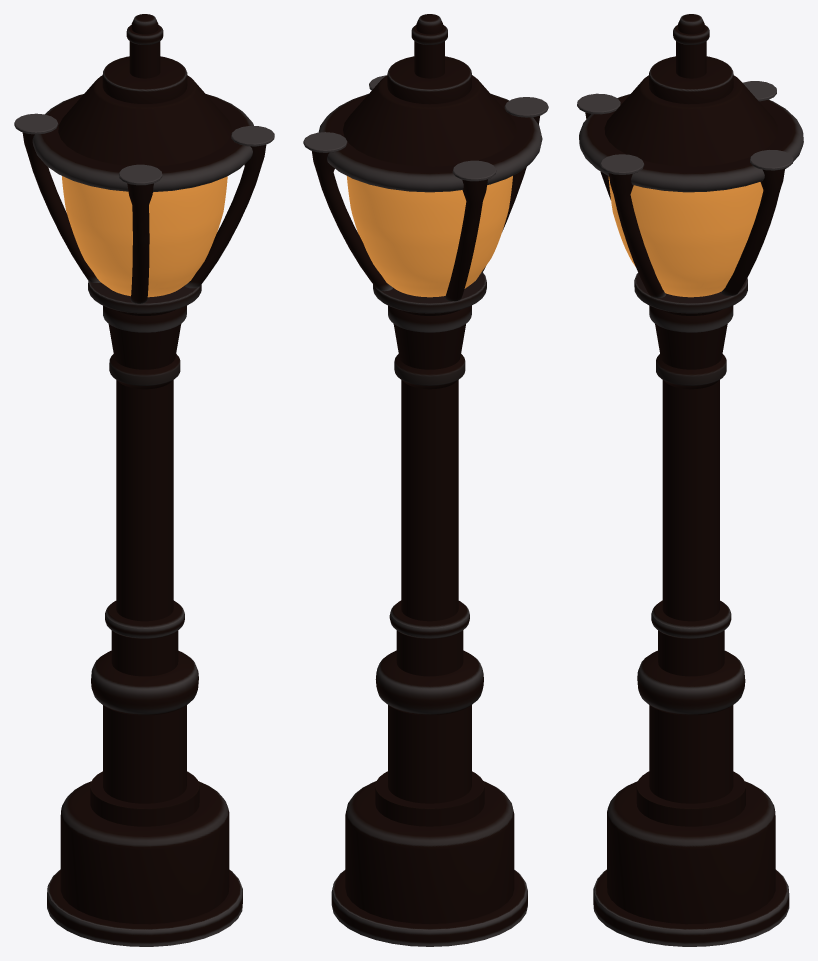
The model's file is lamp.gltf.
The picture shows the model from 3 angles, left to right: view 1: azimuth 30°, elevation 25°; view 2: azimuth 150°, elevation 25°; view 3: azimuth 270°, elevation 25°; orthographic projection.
Visible parts, largest first — view 1: Street Light_0; view 2: Street Light_0; view 3: Street Light_0.
Part boxes in pixels (bbox=[...]): Street Light_0: bbox=[14, 14, 274, 946]; Street Light_0: bbox=[303, 14, 548, 946]; Street Light_0: bbox=[577, 14, 803, 946].
Size of the model in its own units: 0.7407 by 3.23 by 0.7464.
2 materials, 2 textured.
